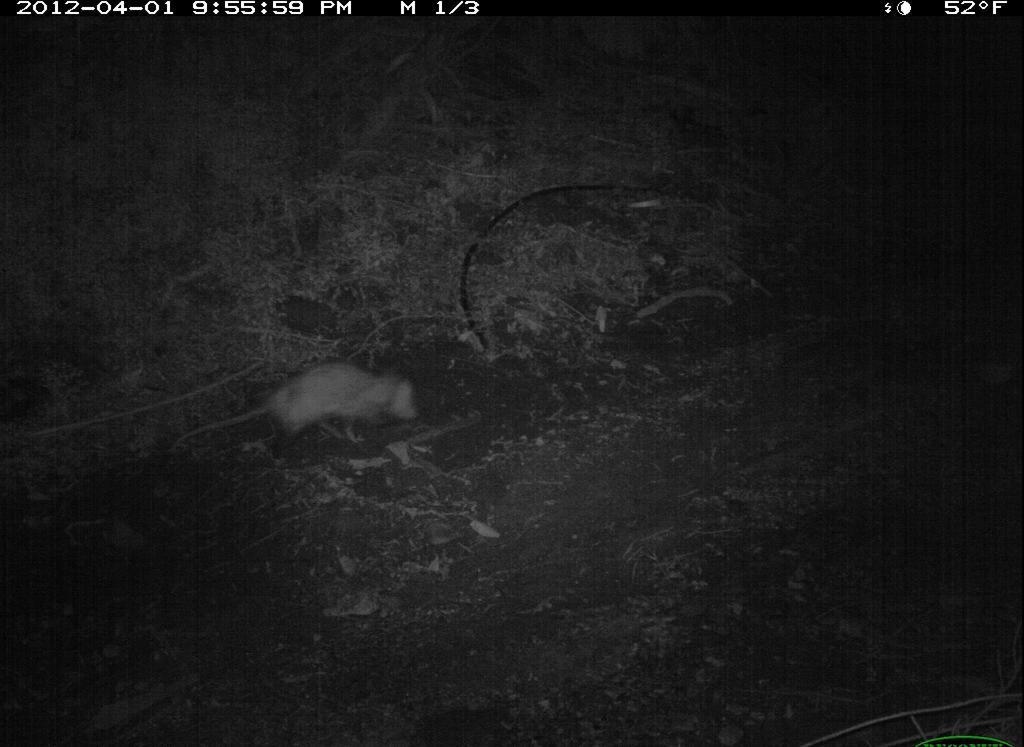opossum: (177, 360, 424, 460)
